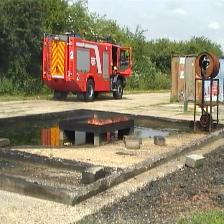fire: (87, 113, 129, 126)
